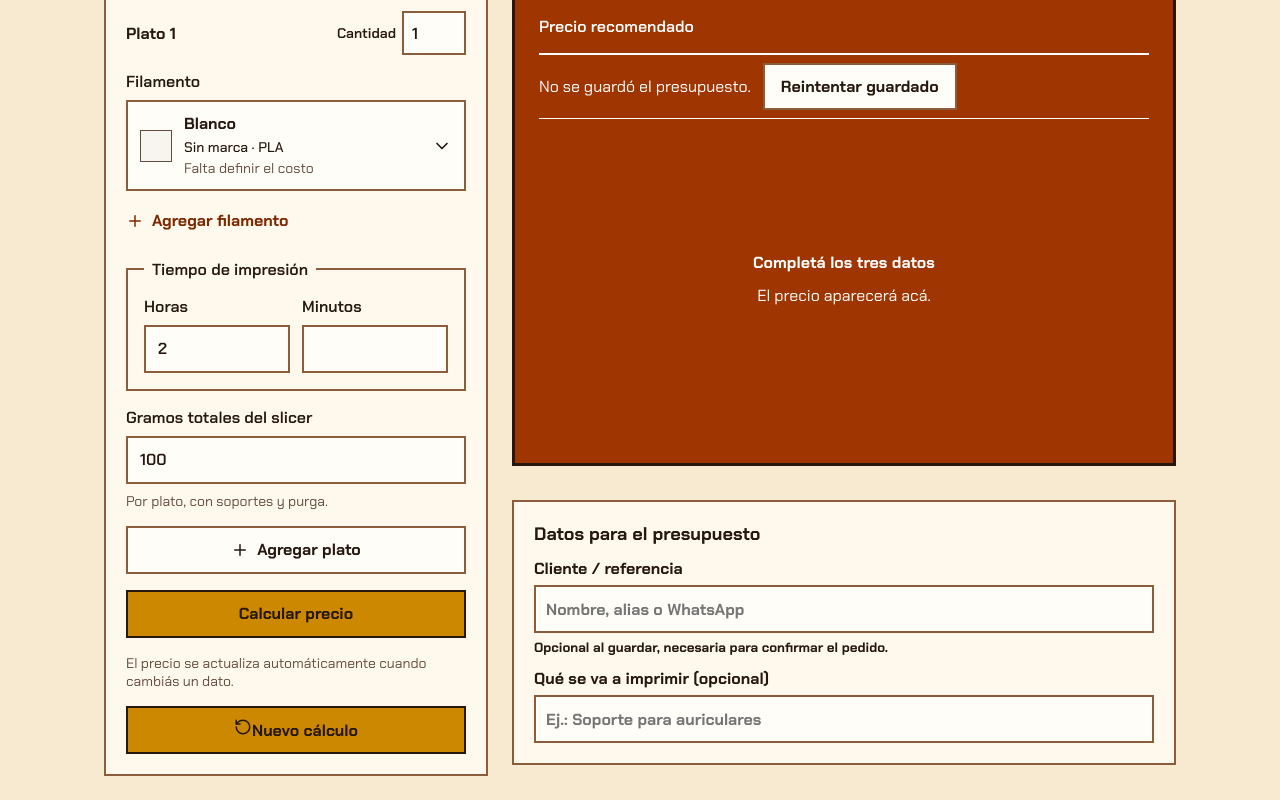
it: offers a new calculation after the restored order is closed
(page scrolled)
Click the button "Nuevo cálculo" at (296, 730), box left=126, top=706, right=466, bottom=754
(page scrolled)
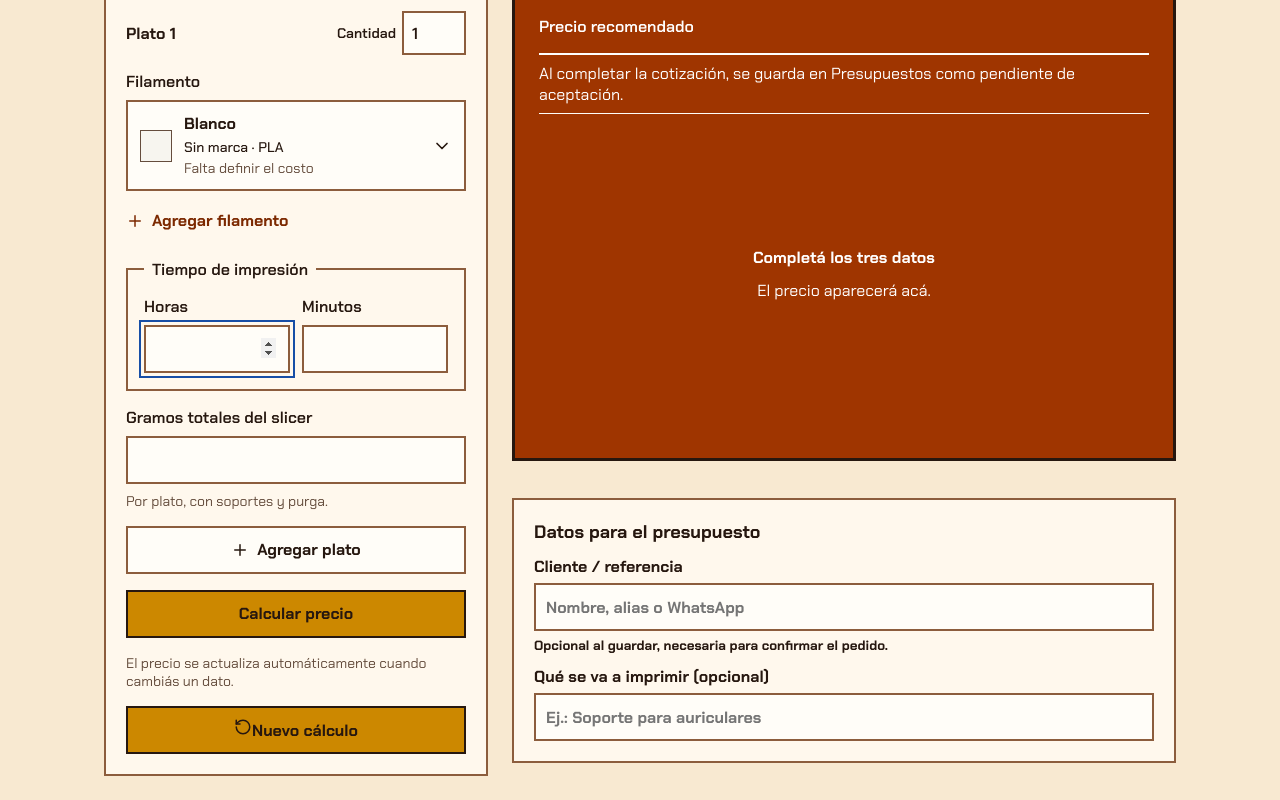
Expected: the number field labelled "Gramos totales del slicer" is not empty, left=126, top=436, right=466, bottom=484
